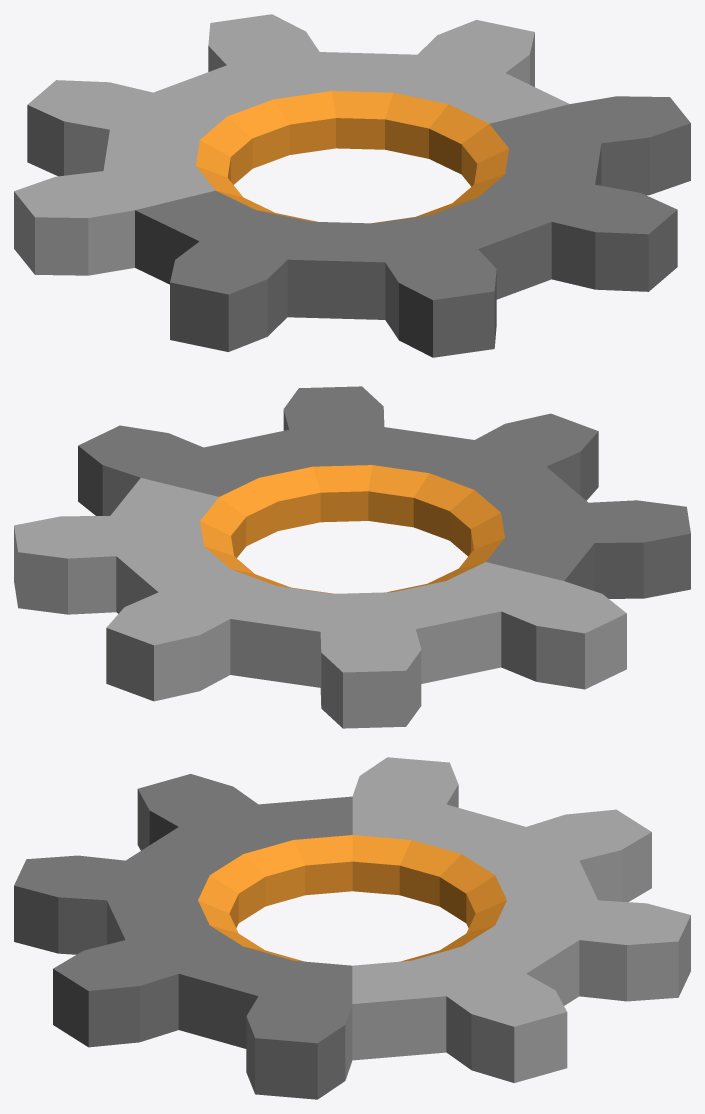
The model's file is gear.fbx.
The picture shows the model from 3 angles, top to bottom: view 1: azimuth 30°, elevation 25°; view 2: azimuth 150°, elevation 25°; view 3: azimuth 270°, elevation 25°; orthographic projection. The views are drawn at different scales.
Visible parts, largest first — view 1: Circle; view 2: Circle; view 3: Circle.
Part boxes in pixels (bbox=[...]): Circle: bbox=[14, 14, 690, 357]; Circle: bbox=[14, 386, 690, 728]; Circle: bbox=[14, 757, 690, 1099].
Bounding box in the file's own units: 276 × 25.3 × 276.
